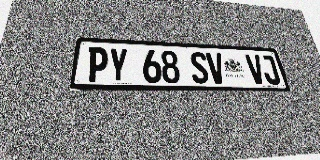6: (142, 49, 162, 83)
8: (160, 50, 181, 83)
J: (259, 55, 281, 84)
P: (86, 47, 108, 82)
S: (189, 52, 210, 84)
V: (205, 52, 227, 84), (245, 54, 267, 84)
Y: (108, 48, 128, 83)
